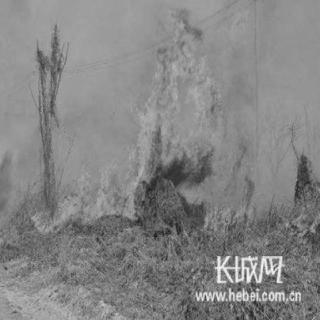Fire: (128, 16, 220, 218), (287, 182, 319, 258)
